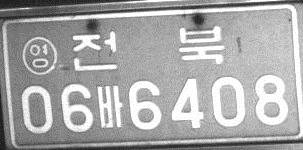0: (210, 76, 246, 128), (20, 84, 53, 134)
4: (171, 77, 204, 128)
6: (127, 79, 162, 130), (60, 82, 93, 132)
8: (254, 73, 289, 126)
바: (96, 84, 123, 129)
영: (21, 35, 57, 76)
전북_D: (70, 25, 225, 71)
